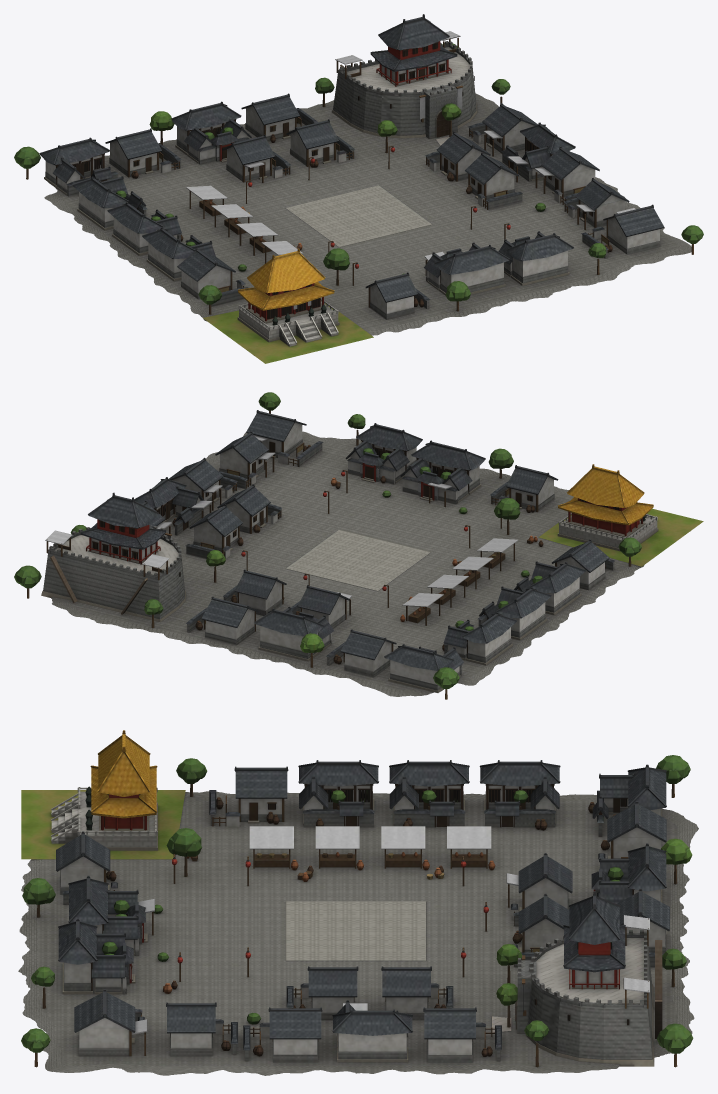
File: gunpowder-town-medium-b-sinic.glb
3 renders of one model, top to bottom at view 1: azimuth 30°, elevation 25°; view 2: azimuth 150°, elevation 25°; view 3: azimuth 270°, elevation 25°, orthographic. The views are drawn at different scales.
Parts seen in each view (by area): view 1: LOD0; view 2: LOD0; view 3: LOD0.
Part boxes in pixels (x1,y1,x2,y2): LOD0: (14, 14, 703, 363); LOD0: (14, 392, 703, 699); LOD0: (18, 730, 698, 1075).
Size of what is drawn, in the model's own units: 6.03 by 1.27 by 6.09.
Materials: 3 (3 with a texture image).
